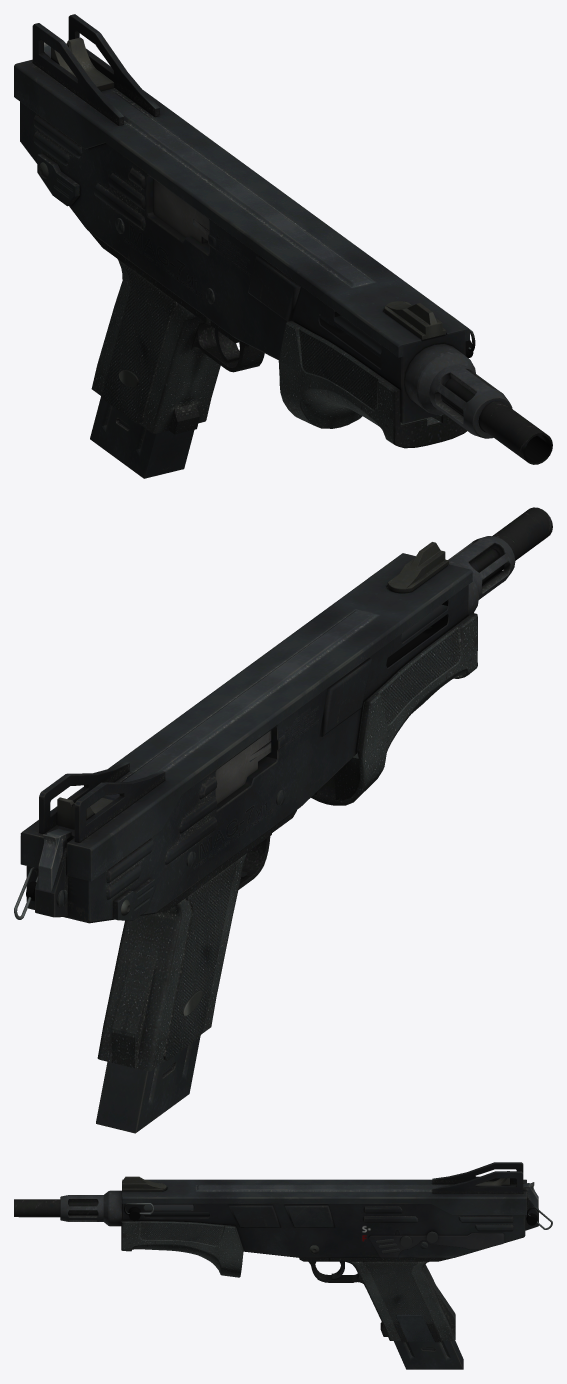
Rendered from mag7.glb.
3 renders of one model, top to bottom at view 1: azimuth 30°, elevation 25°; view 2: azimuth 150°, elevation 25°; view 3: azimuth 270°, elevation 25°, orthographic. The views are drawn at different scales.
Visible parts, largest first — view 1: mag7; view 2: mag7; view 3: mag7.
Boxes of the visible parts, x1=… form: mag7: x1=14, y1=14, x2=552, y2=478; mag7: x1=14, y1=507, x2=552, y2=1133; mag7: x1=14, y1=1162, x2=552, y2=1369.
Size of the model in its own units: 2.59 by 10.65 by 26.36.
1 material, 1 textured.
